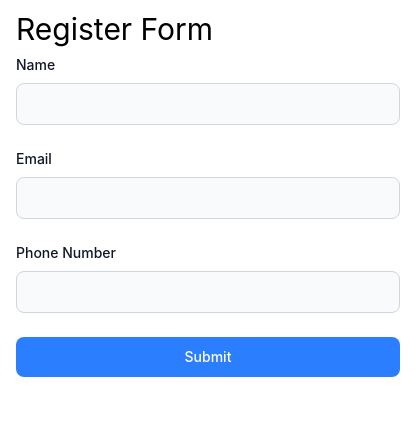
RegisterForm component › shows validation errors
Click the button "Submit" at (208, 357), box top-left (16, 337), bottom-right (400, 377)
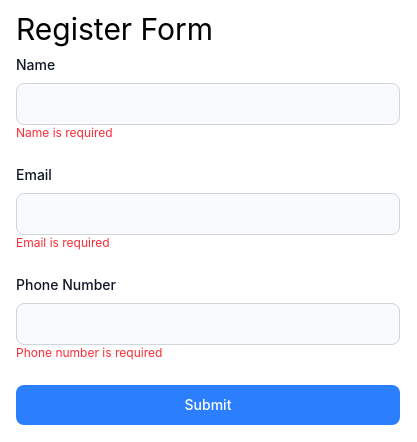
Result: the text "Name is required" is shown at top-left (16, 125), bottom-right (113, 140)
Result: the text "Email is required" is shown at top-left (16, 235), bottom-right (110, 250)
Result: the text "Phone number is required" is shown at top-left (16, 345), bottom-right (162, 360)
